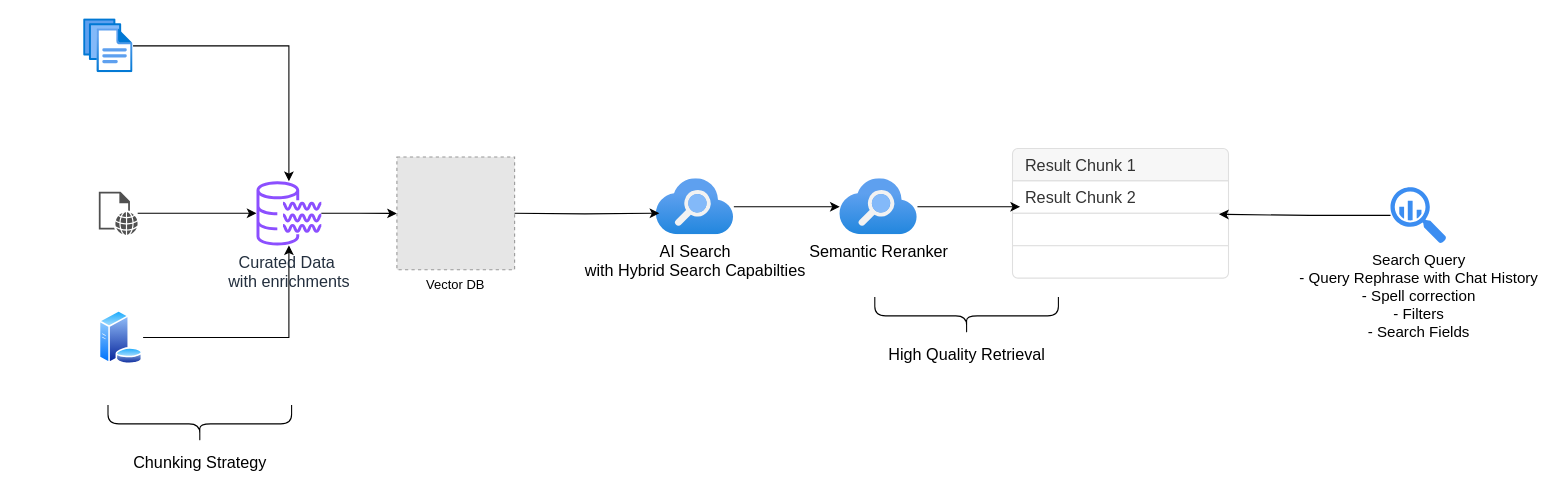
Some shapes in this 1556 by 489 pixel diagram are drawn without their labels. Grey dashed boxes stand in for pictures. The centre of each missing label's shape, as x and y in pixels:
"- Wiki pages - Community Forums" goes at point (117, 212).
"Proprietary Databases" goes at point (120, 337).
"Result Chunk 3" goes at point (1119, 229).
"Result Chunk 4" goes at point (1119, 261).
"Unstructured data - PDF - KB Articles - Product Documentation - User Guides" goes at point (108, 45).
